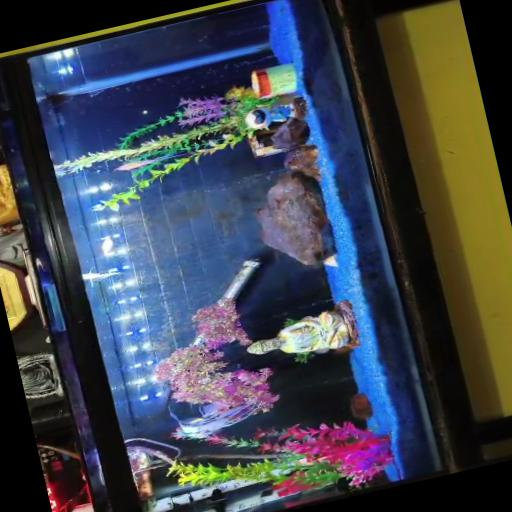Fish: (171, 403, 260, 439), (115, 154, 182, 170), (82, 269, 124, 285), (102, 237, 114, 255), (93, 200, 109, 211)
